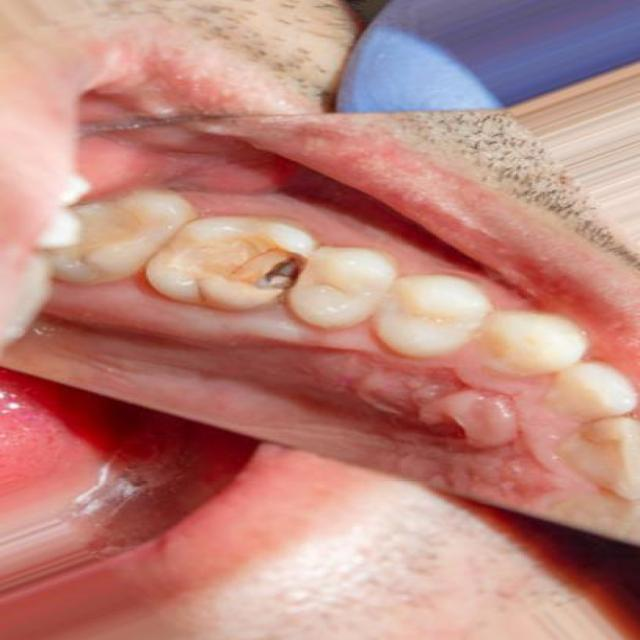caries: (179, 217, 340, 305), (42, 185, 161, 268)
